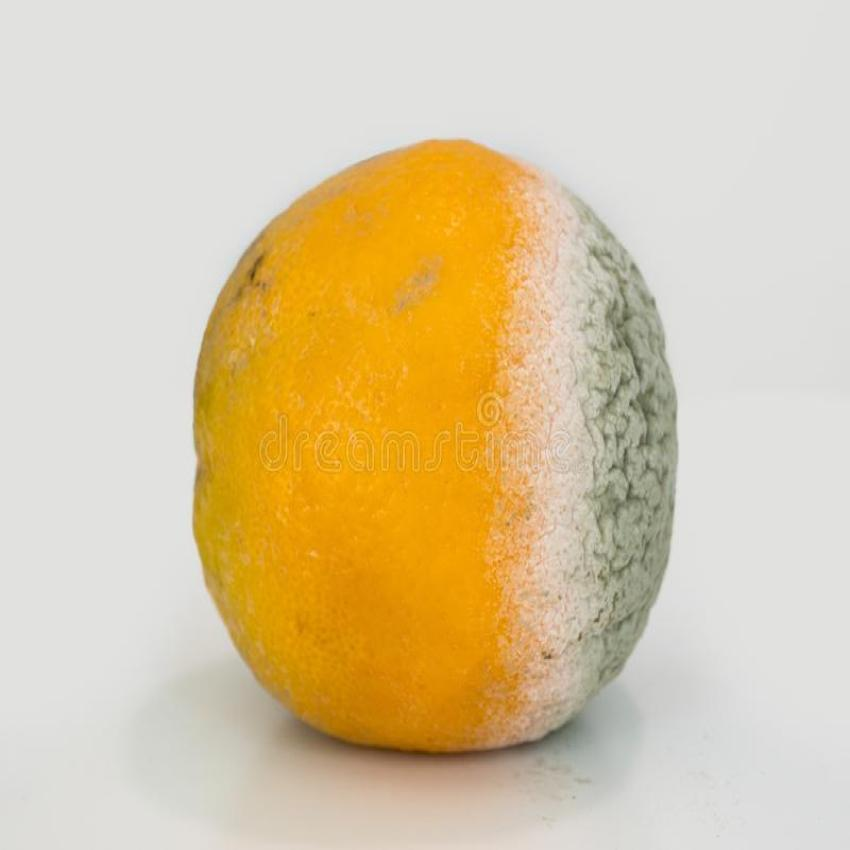Mal estado: (146, 111, 697, 764)
